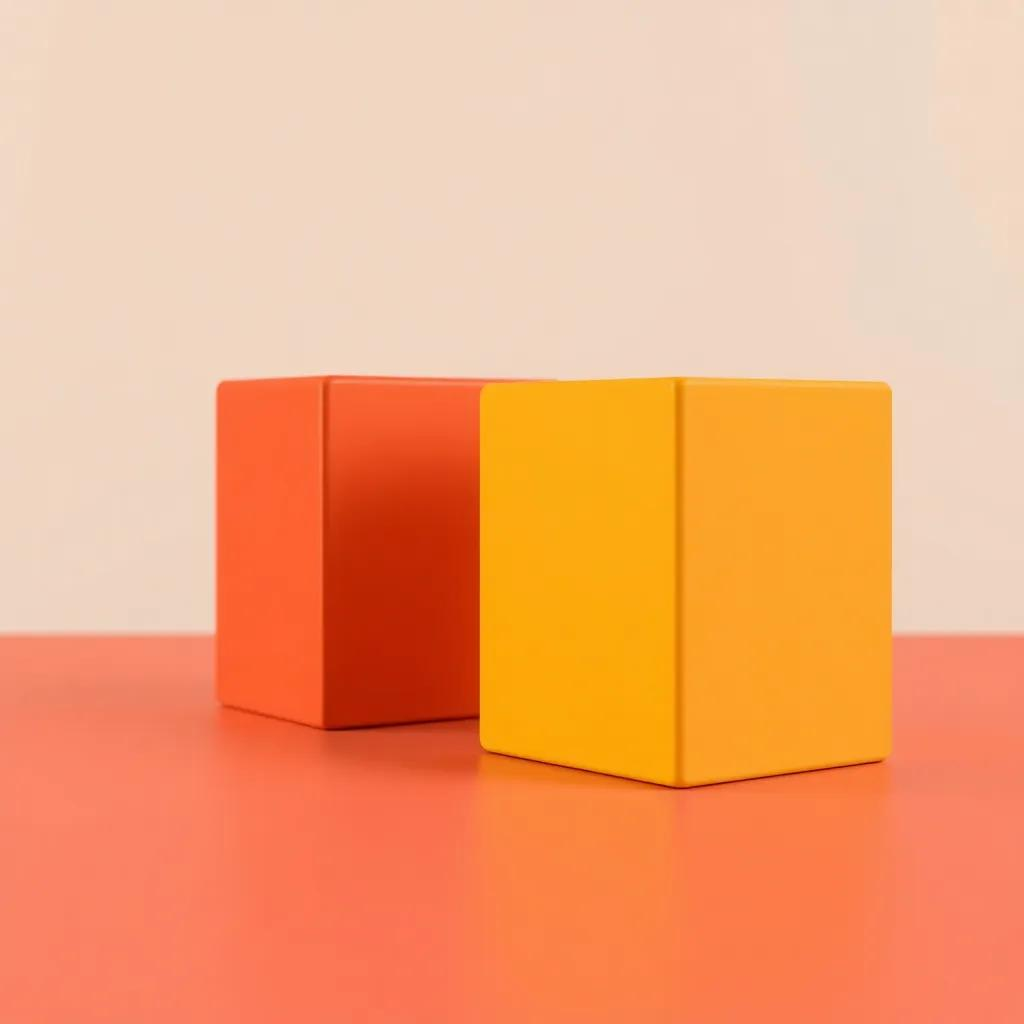cube: (476, 374, 894, 788), (213, 373, 494, 730)
